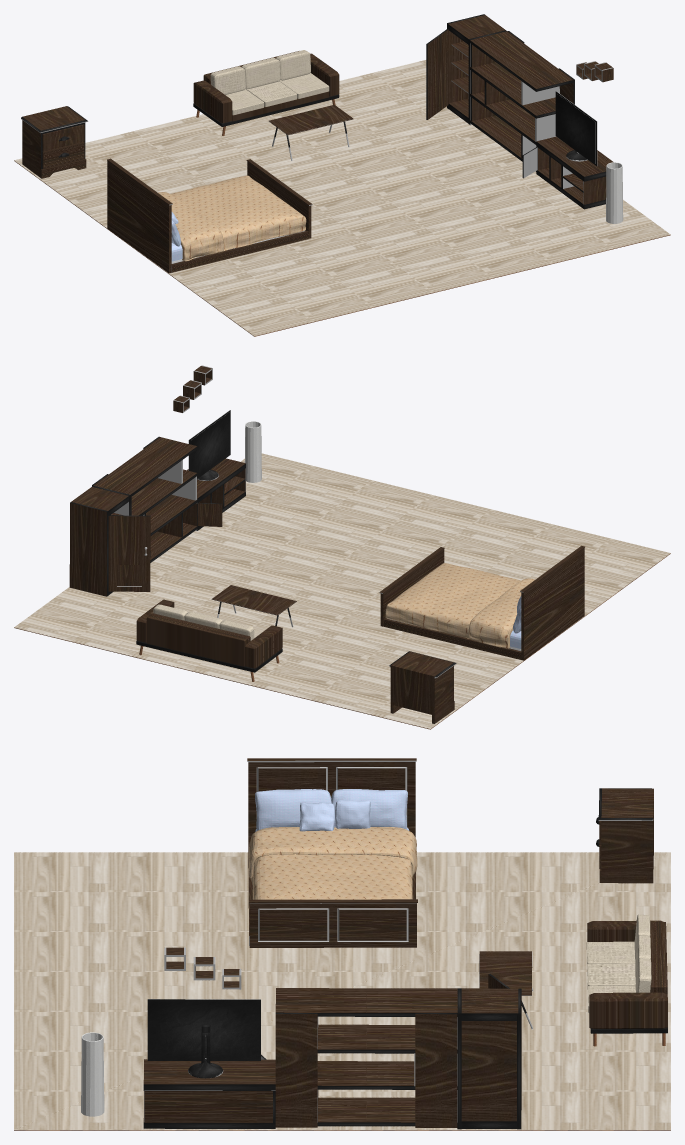
Rendered from T1 Set 2 Pos 5.glb.
3 views of the same model, one above another, from view 1: azimuth 30°, elevation 25°; view 2: azimuth 150°, elevation 25°; view 3: azimuth 270°, elevation 25° (orthographic). The views are drawn at different scales.
Bounding box in the file's own units: 0.2923 × 0.0855 × 0.292.
10 materials, 9 textured.
